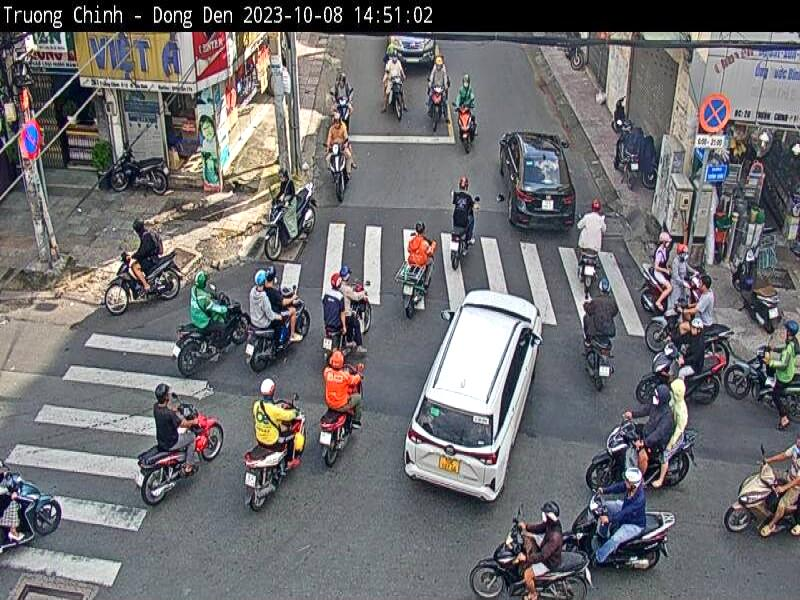car: (403, 289, 545, 504), (501, 130, 577, 238), (390, 29, 437, 68)
motorcycle: (469, 506, 592, 600), (137, 393, 224, 510), (562, 490, 674, 572), (586, 414, 699, 491), (724, 442, 800, 536), (247, 397, 308, 508), (725, 337, 800, 424), (648, 296, 735, 370), (635, 338, 725, 406), (0, 458, 61, 558), (174, 294, 248, 371), (104, 246, 184, 312), (730, 244, 780, 333), (262, 183, 318, 262), (246, 308, 310, 371), (636, 263, 706, 319), (321, 388, 361, 465), (111, 141, 169, 194), (396, 252, 432, 314), (584, 330, 614, 392), (324, 138, 352, 201), (614, 133, 641, 191), (322, 323, 368, 354), (454, 101, 477, 154), (576, 244, 598, 296), (427, 77, 445, 135), (385, 72, 405, 118), (452, 226, 471, 274), (332, 88, 354, 128), (610, 94, 629, 131)
